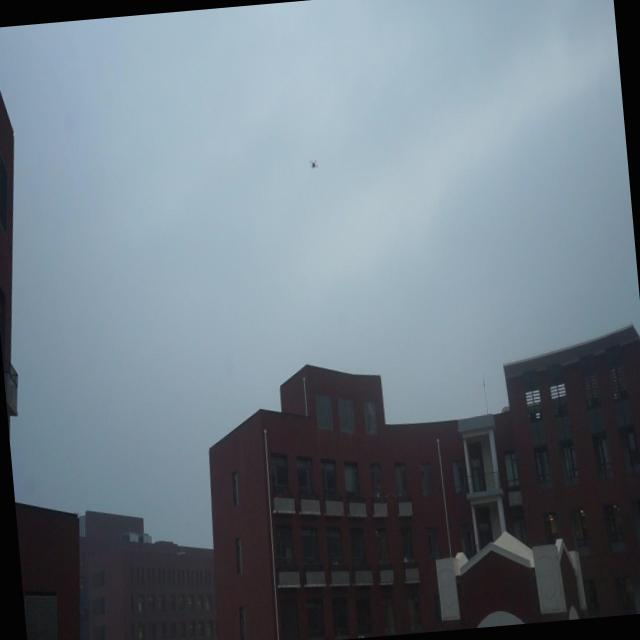drone: (306, 153, 322, 174)
